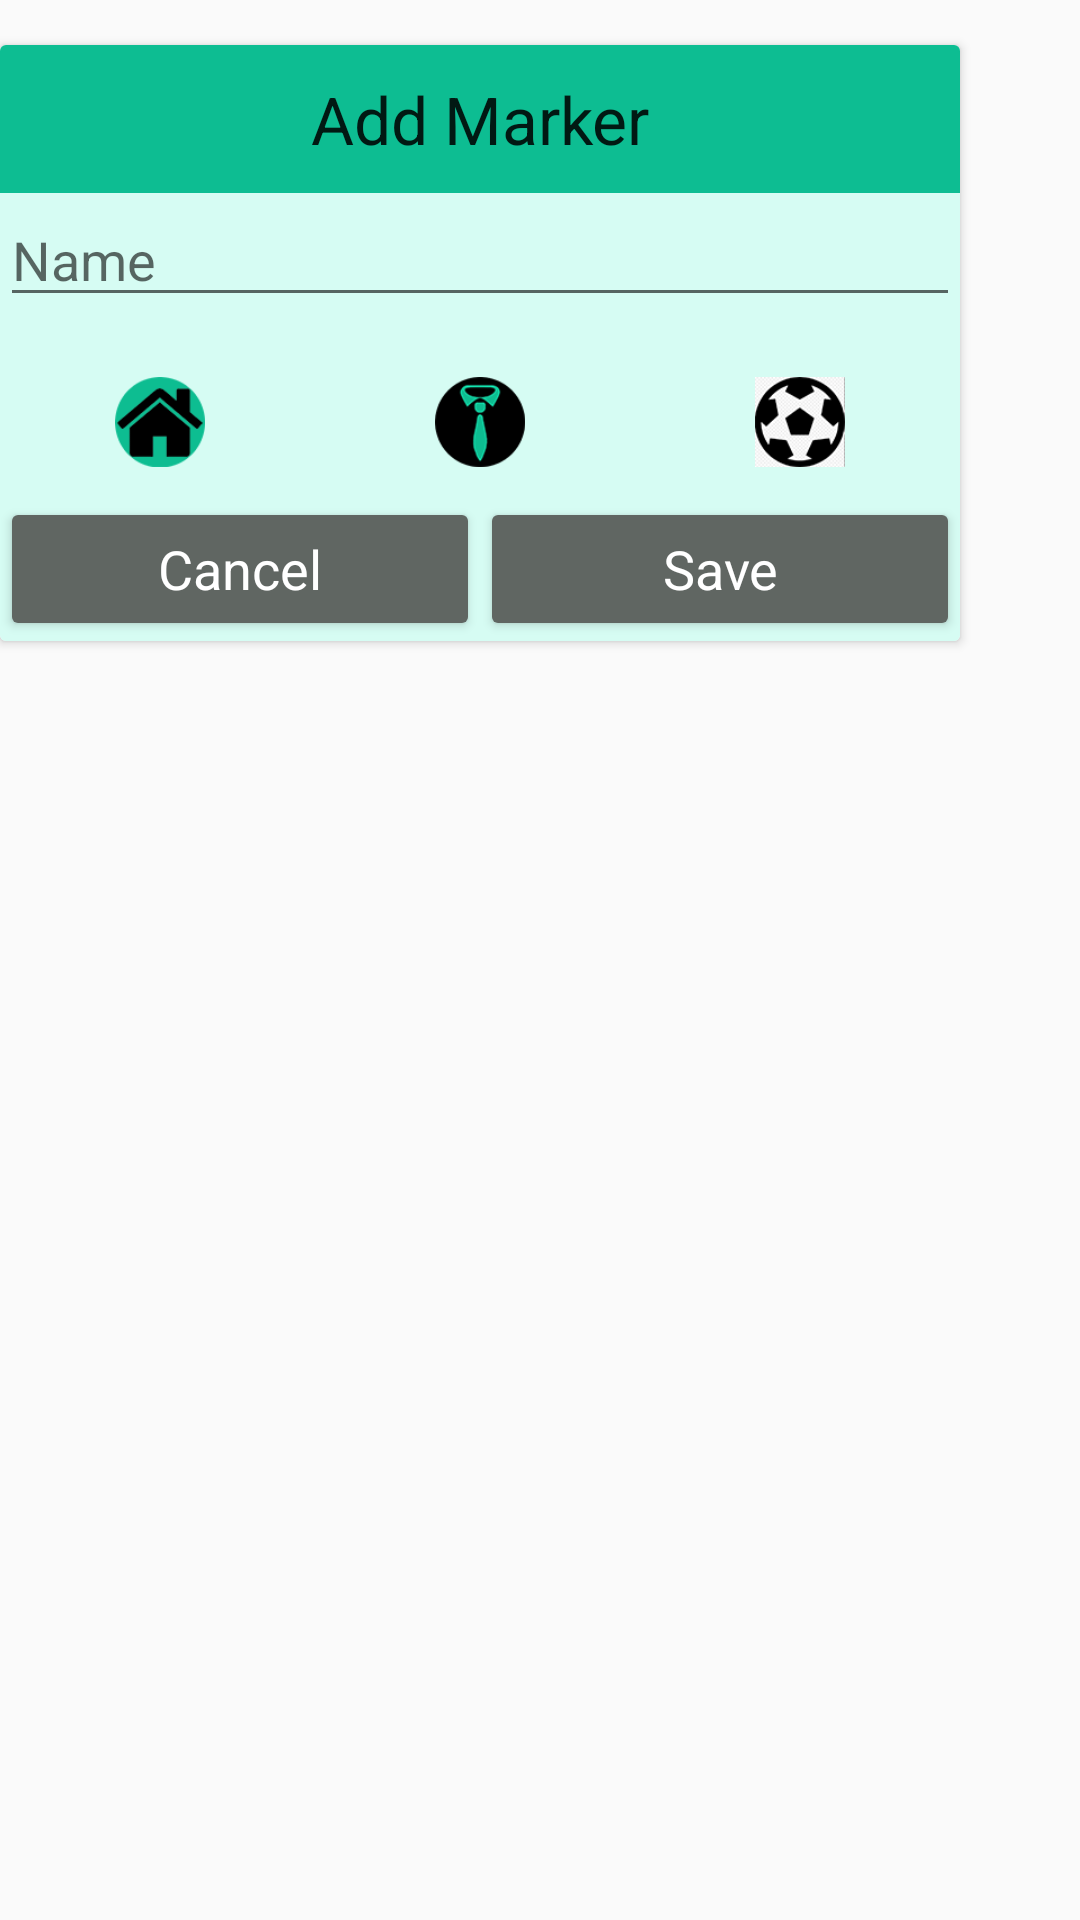

Named icons in this screenshot (1080×1920) and their centers, (x,y):
home: (160,422)
sport: (800,422)
work: (480,422)
